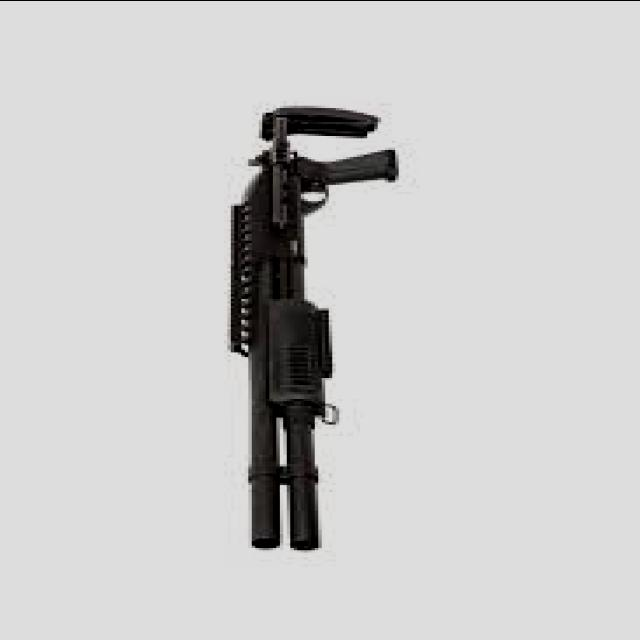long weapon: (212, 96, 406, 555)
